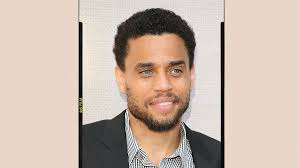b.y: (143, 93, 178, 131)
